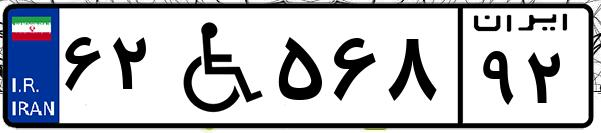2: (525, 38, 570, 115), (110, 28, 158, 98)
5: (270, 28, 330, 110)
6: (330, 28, 385, 110), (57, 26, 110, 100)
8: (385, 28, 445, 110)
9: (475, 38, 525, 113)
ژ (معلولین و جانبازان): (158, 12, 270, 120)
